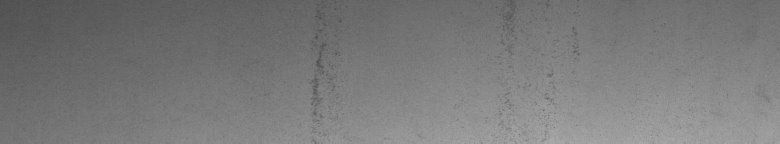ib: (498, 14, 580, 115)
